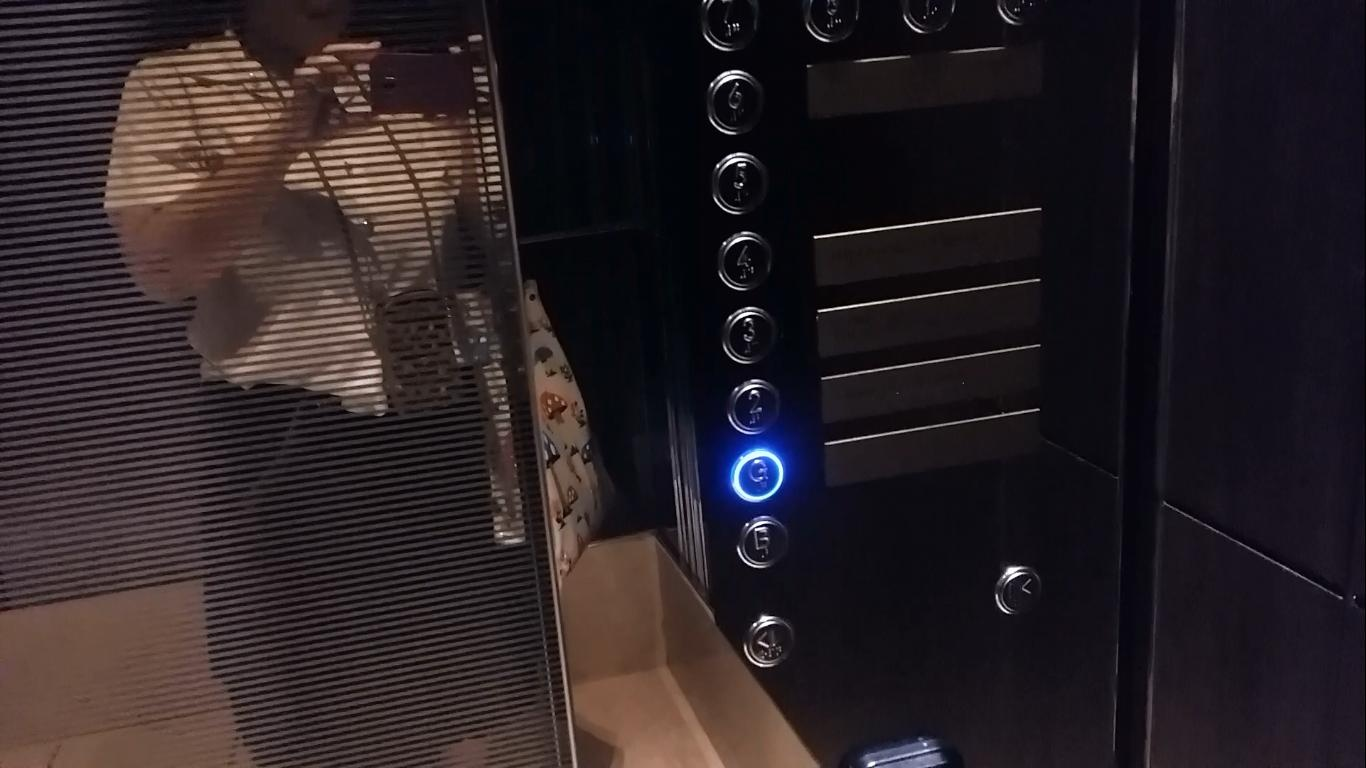2: (722, 375, 783, 439)
3: (718, 303, 782, 368)
4: (713, 229, 777, 294)
5: (708, 149, 773, 217)
6: (701, 68, 769, 138)
B: (733, 512, 790, 572)
G: (728, 446, 787, 506)
blur: (697, 1, 762, 54)
close: (988, 562, 1045, 622)
open: (739, 610, 796, 670)
